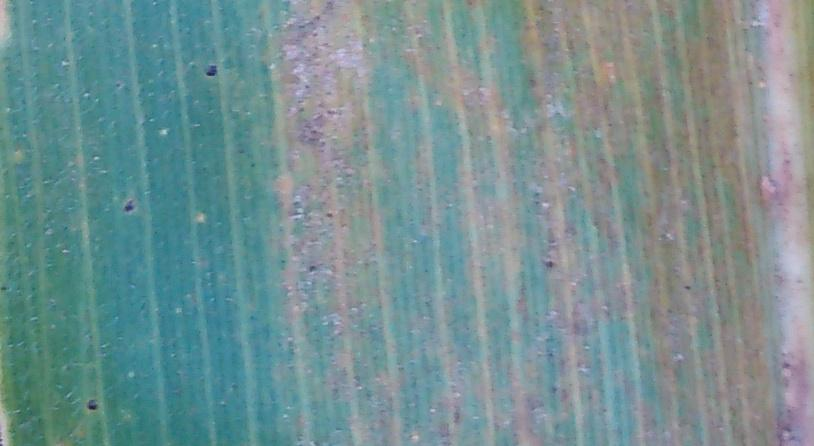tarspot: (118, 194, 137, 214), (317, 206, 336, 222), (777, 354, 794, 371), (204, 61, 220, 78), (84, 397, 102, 412), (303, 260, 319, 276), (539, 254, 556, 269), (679, 280, 695, 293), (1, 282, 11, 294)
